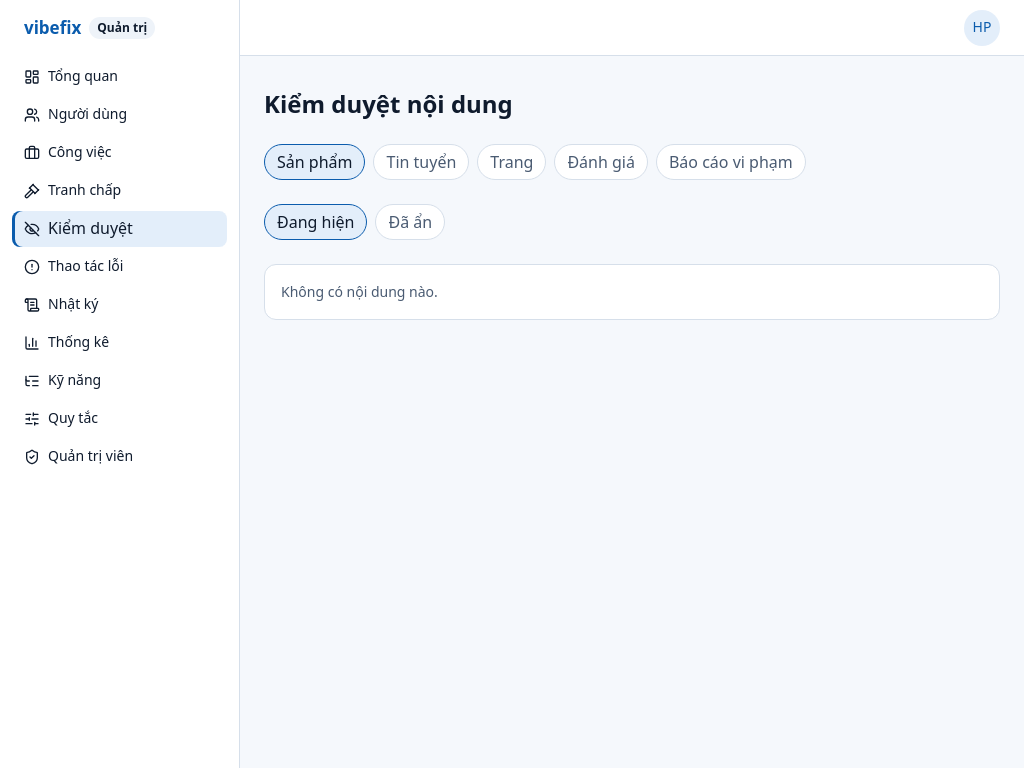
Scenario: ADM-6 moderation (FR-60) › hides a Job Post with the reason its author reads
This screenshot has width=1024, height=768.
Click the tab "Tin tuyển" at coordinates (421, 162), box [374,144,469,180]
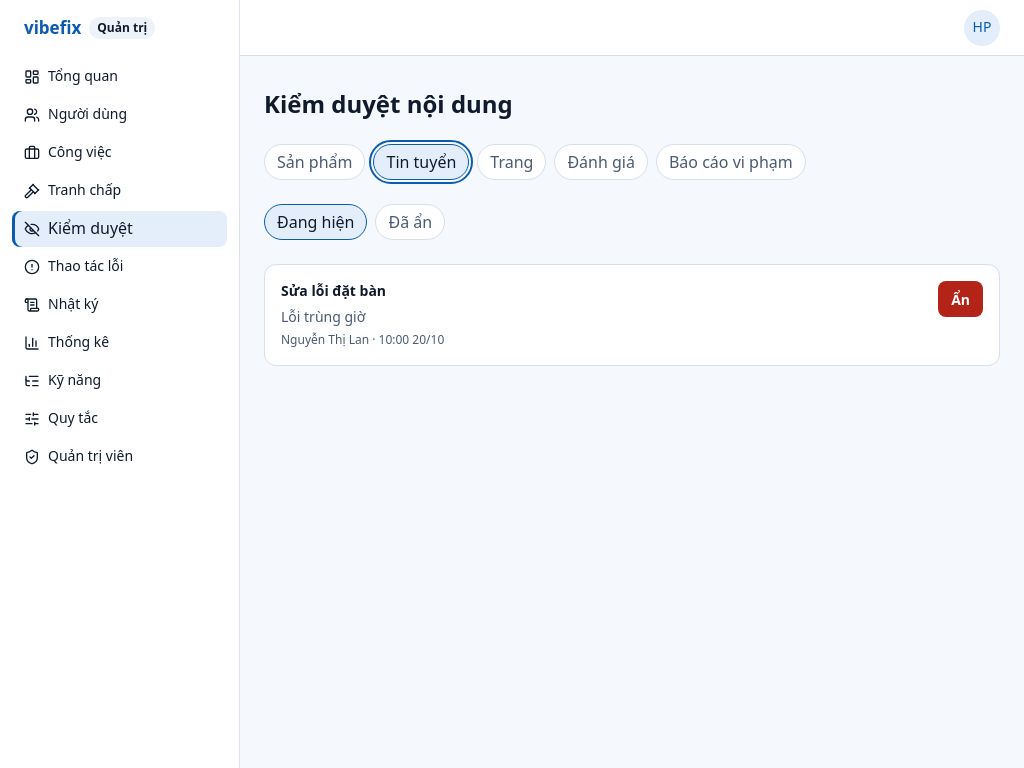
Expected: the text "Sửa lỗi đặt bàn" is shown, [281,281,386,300]
Click the button "Ẩn" at coordinates (961, 299), box [938,281,983,317]
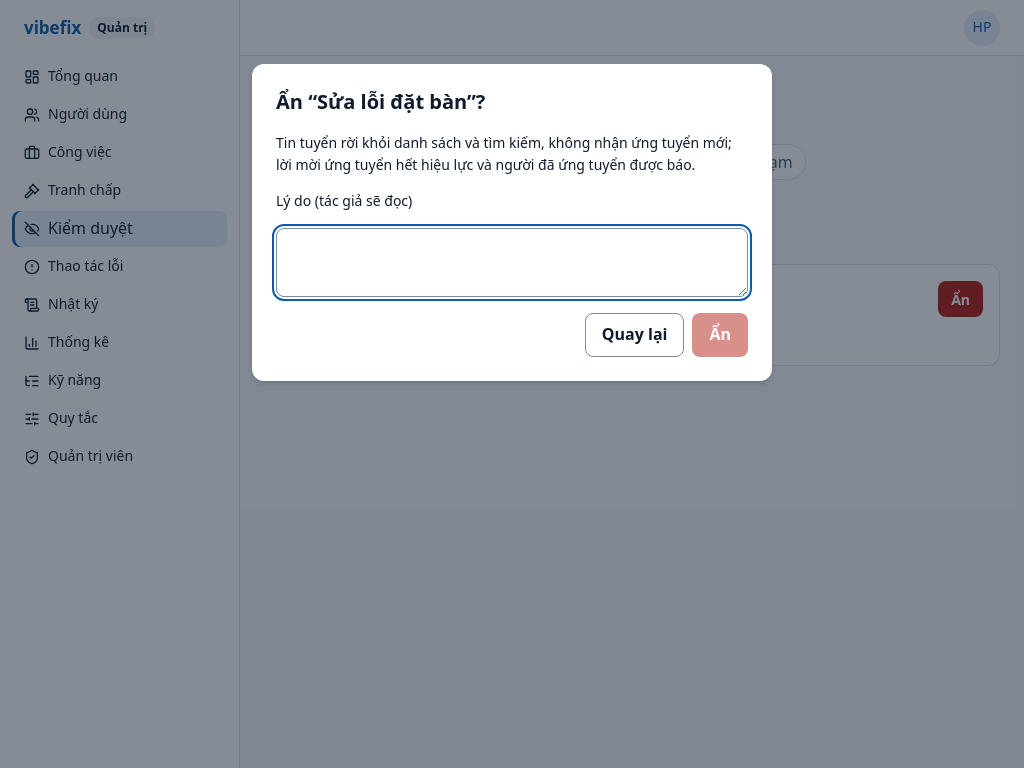
Type "Lừa đảo" into the text box labelled "Lý do (tác giả sẽ đọc)" at coordinates (512, 262), box [276,228,748,297]
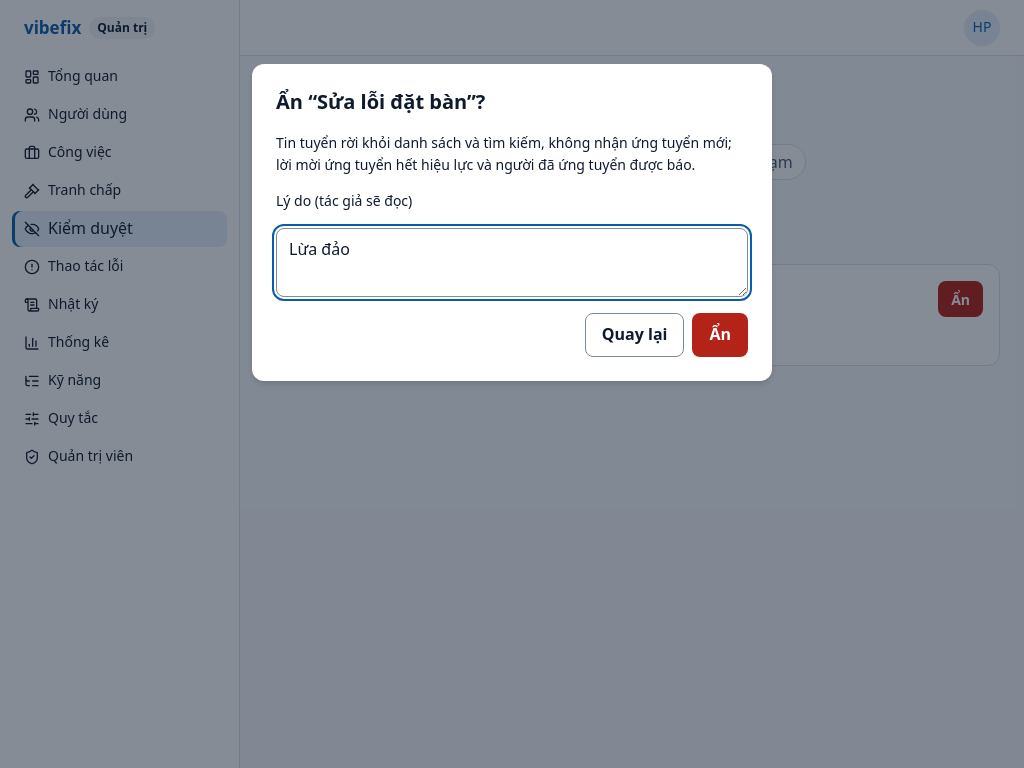
Click the button "Ẩn" at coordinates (720, 335), box [692,313,748,357]
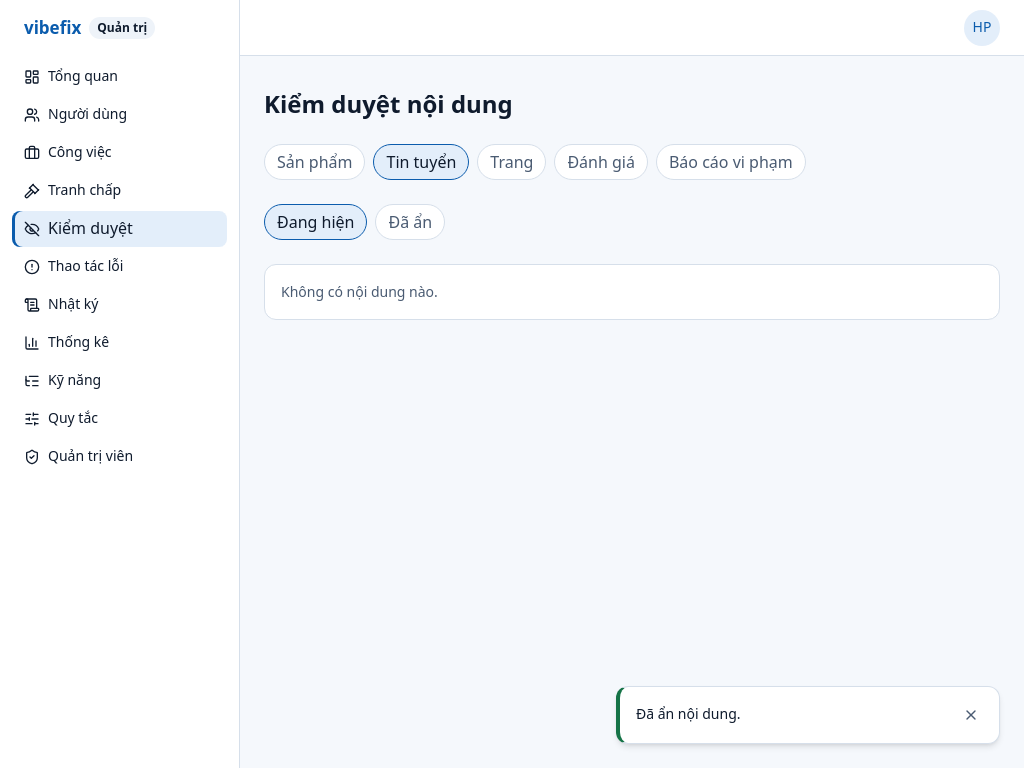
Expected: the text "Sửa lỗi đặt bàn" is gone
Click the button "Đã ẩn" at coordinates (410, 222), box [376,204,445,240]
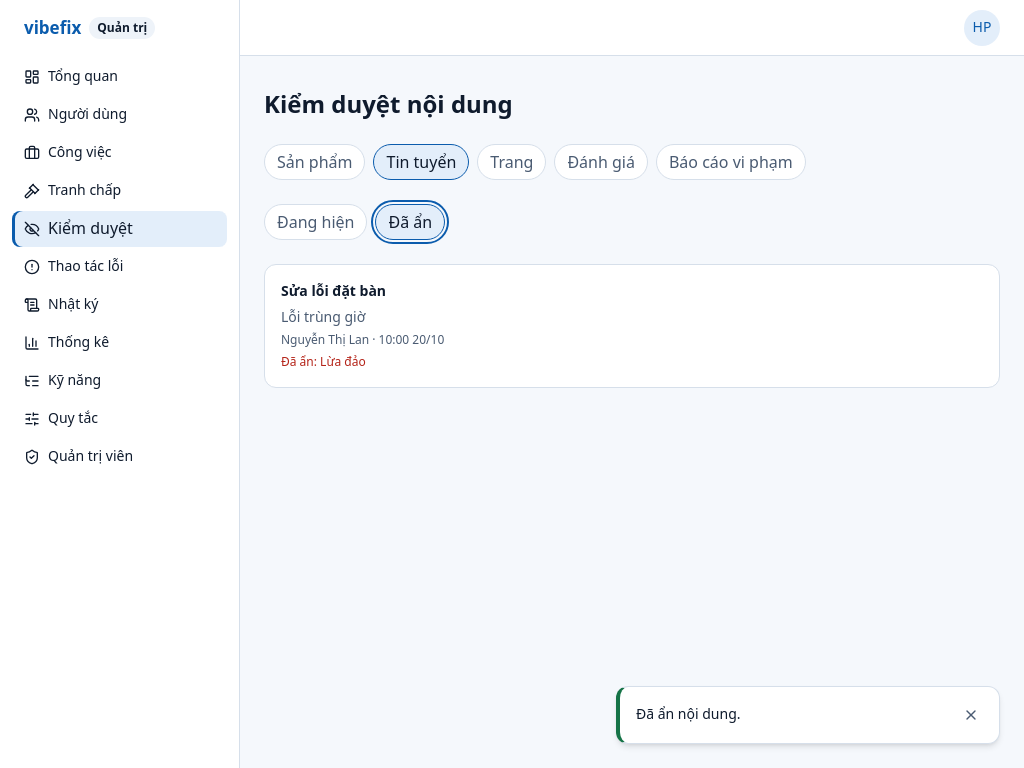
Expected: the text "Đã ẩn: Lừa đảo" is shown, [281,353,366,370]
